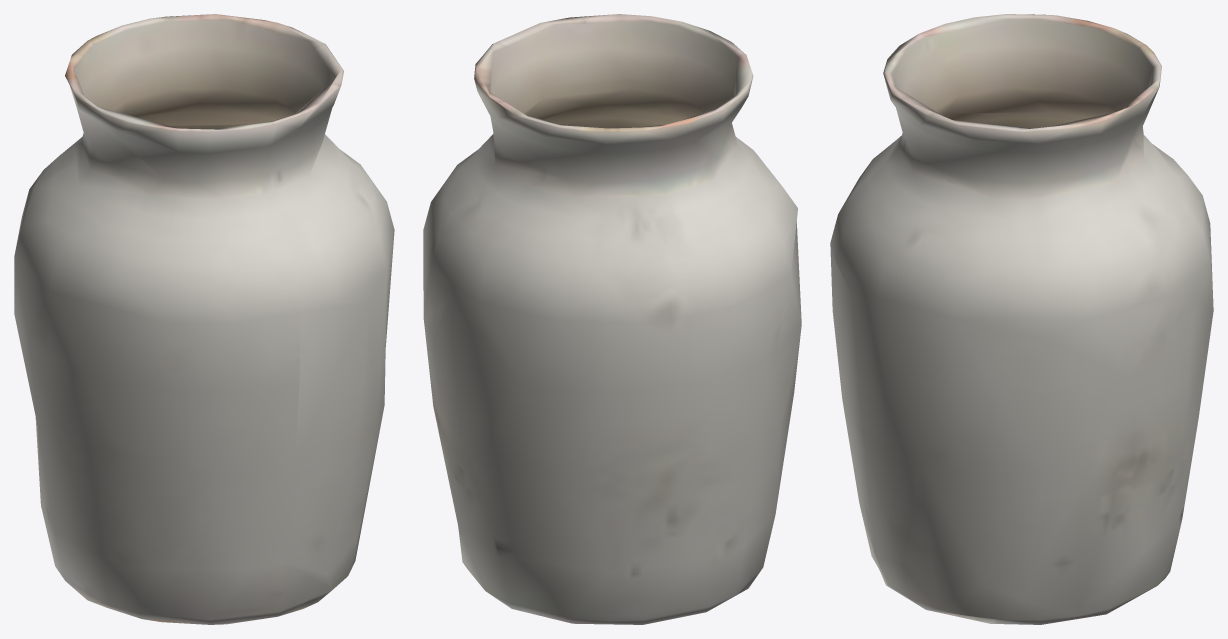
File: ceramic_vase_02.low.glb
The picture shows the model from 3 angles, left to right: view 1: azimuth 30°, elevation 25°; view 2: azimuth 150°, elevation 25°; view 3: azimuth 270°, elevation 25°; orthographic projection.
Parts seen in each view (by area): view 1: body; view 2: body; view 3: body.
Boxes of the visible parts, box(x1,y1,x2,y2) form: body: box(14, 14, 394, 624); body: box(423, 14, 801, 624); body: box(830, 14, 1213, 624).
Bounding box in the file's own units: 0.2164 × 0.309 × 0.2163.
Materials: 1 (1 with a texture image).
